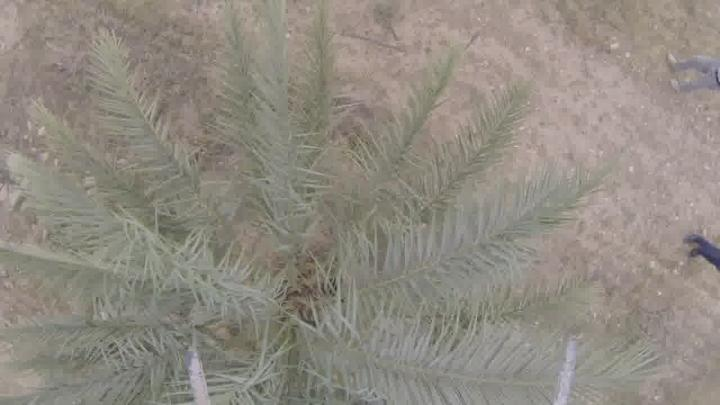Date-Palm-Crown: (114, 101, 470, 405)
